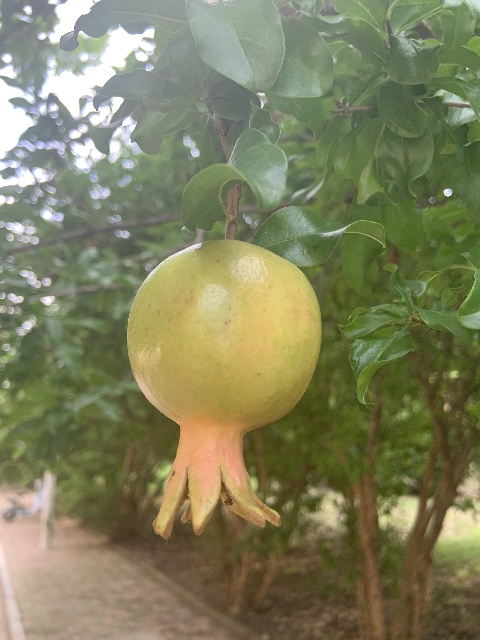mid-growth: (126, 238, 322, 539)
